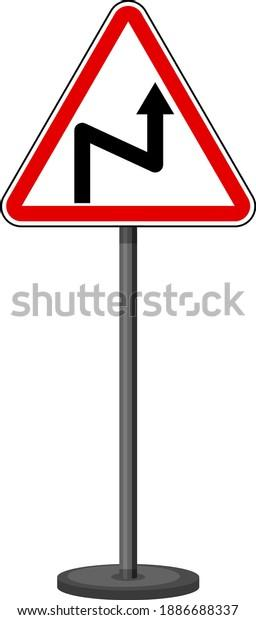Right Reverse Bend: (0, 0, 256, 228)
